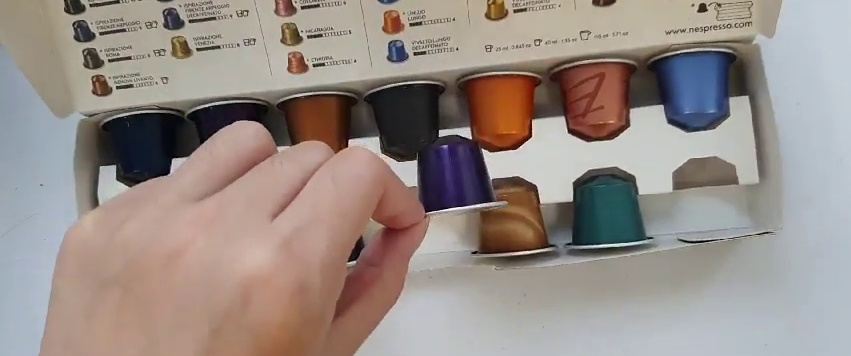capsule_11: (412, 136, 512, 221)
